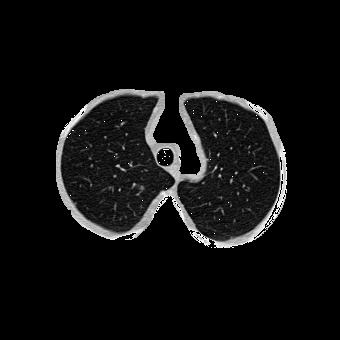PN: (138, 185, 144, 191)
